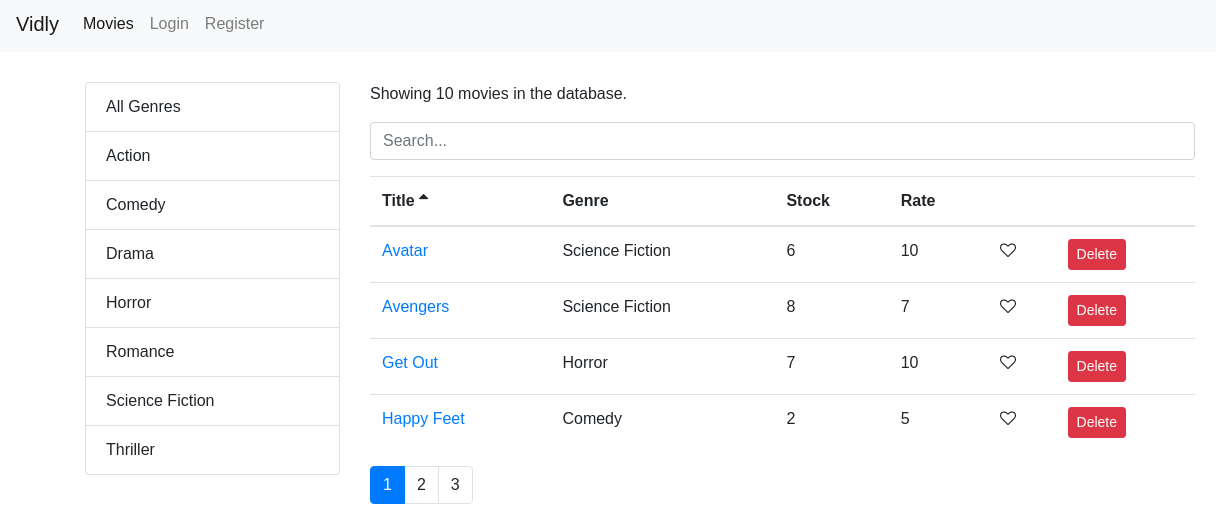
Test: A non registered user interacting with the homepage › displays the correct movie that the user types
In the field with test id "movie-find-searchbar": [783, 141] box [370,122,1195,160], type "Jurassic Park"
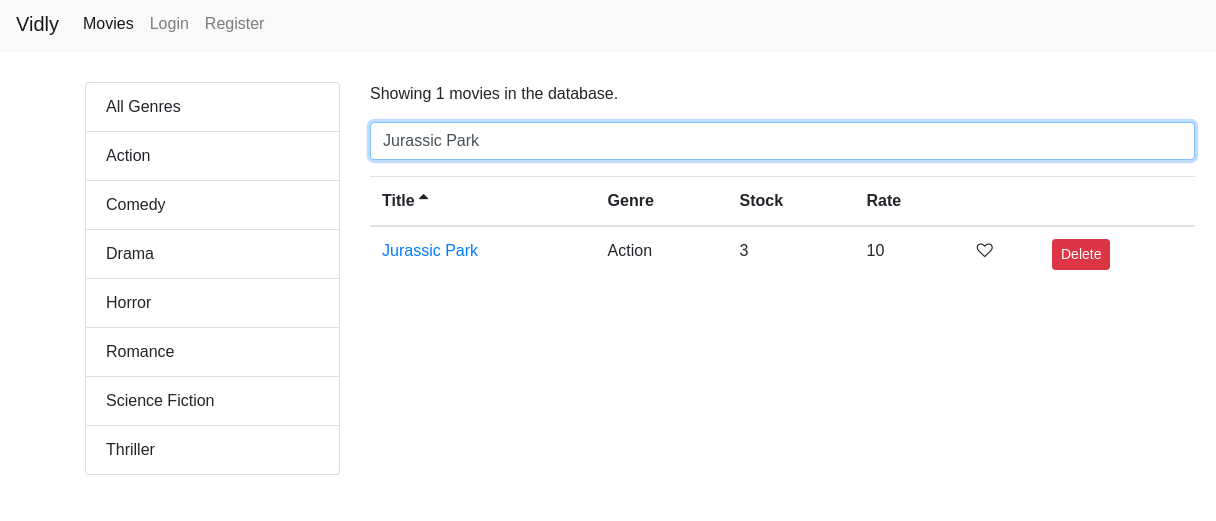
Expected: the link "Jurassic Park" is shown, [382,242,478,259]
